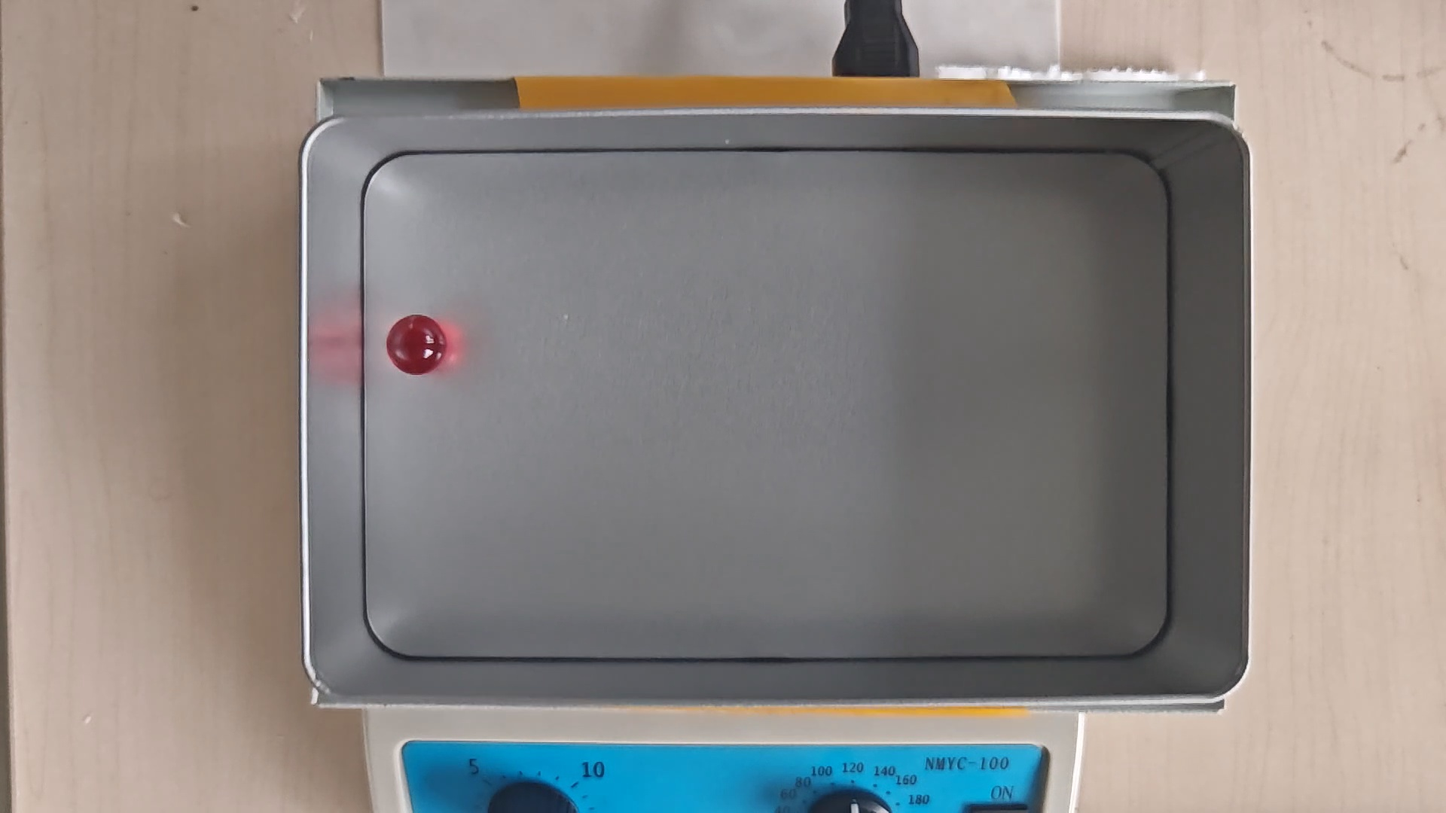ball: (387, 312, 448, 376)
container: (362, 152, 1169, 657)
